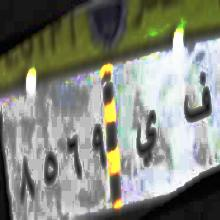5: (43, 145, 58, 194)
6: (65, 135, 83, 186)
8: (17, 152, 36, 210)
9: (89, 119, 108, 174)
faa: (184, 71, 212, 129)
yaa: (134, 103, 159, 169)
